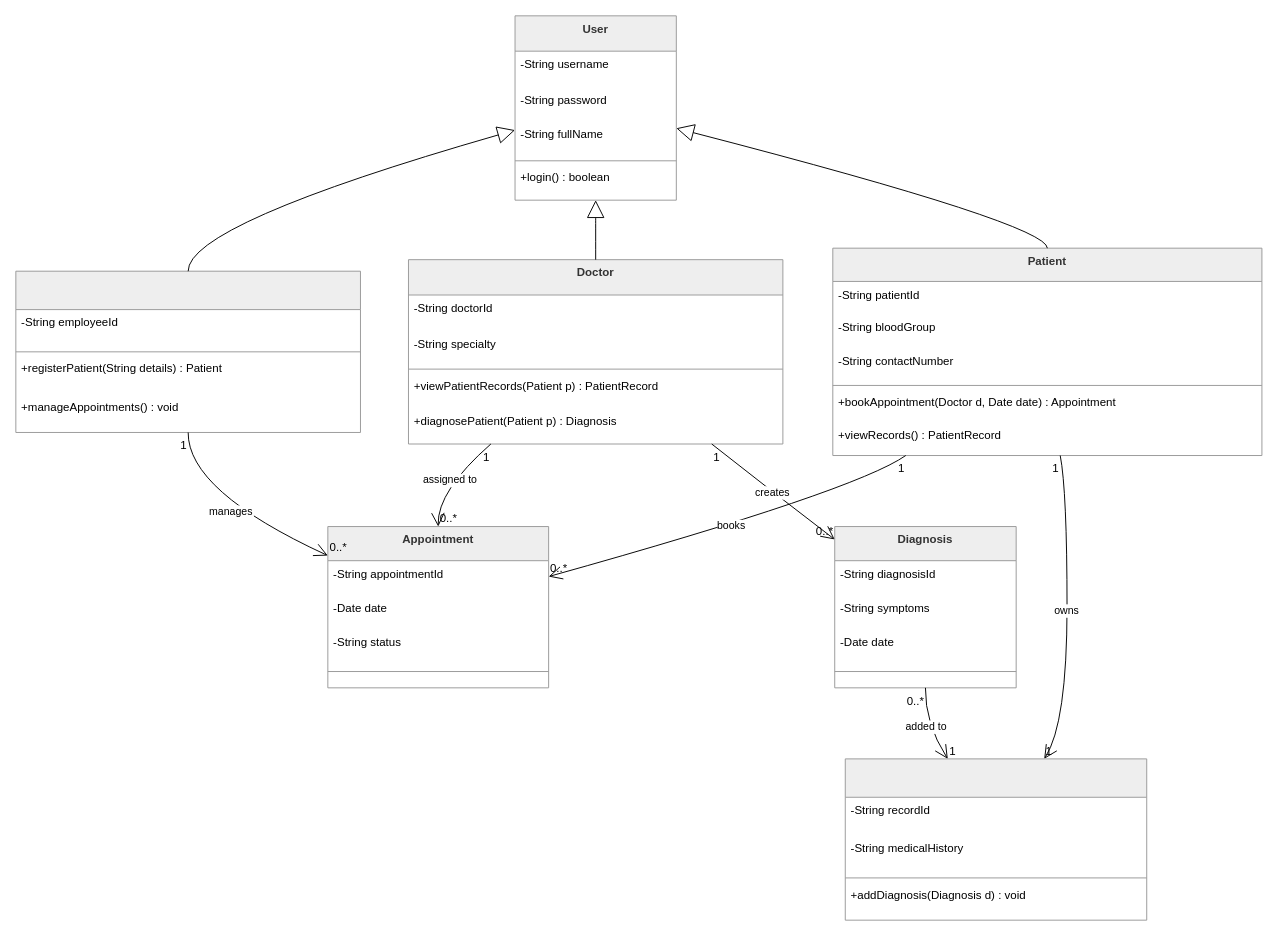
This 1278x936 diagram has some shape labels left out. The shapes that lost their labels are listed below. From the top down, each one's box as (x1, y1, x2, y2) in pixels, then its label:
(15, 270, 360, 432): Receptionist
(844, 758, 1147, 920): PatientRecord
